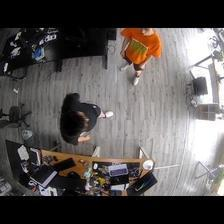normal: (60, 91, 113, 143), (119, 27, 165, 86)
